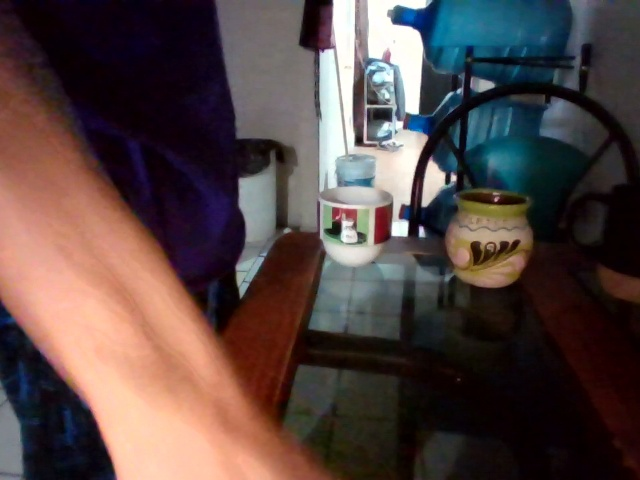taza: (444, 189, 535, 289)
